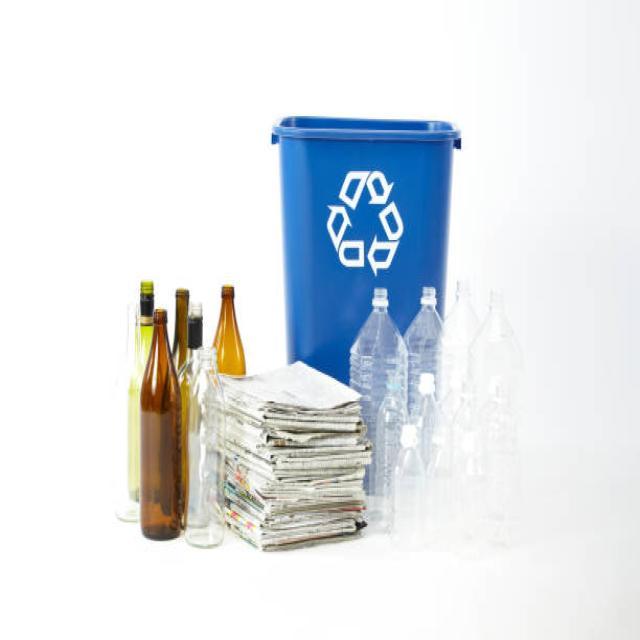glass: (120, 279, 222, 541)
paper: (234, 378, 366, 546)
plastic: (378, 271, 542, 549), (264, 99, 488, 249)
